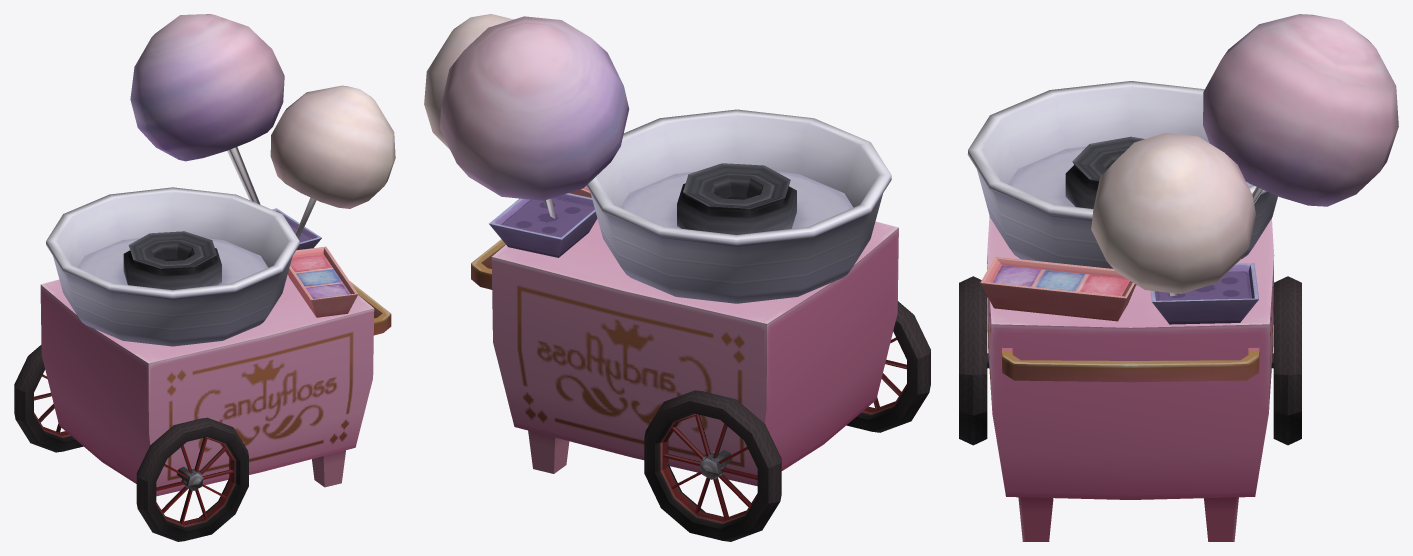
3 views of the same model, side by side, from view 1: azimuth 30°, elevation 25°; view 2: azimuth 150°, elevation 25°; view 3: azimuth 270°, elevation 25° (orthographic). The views are drawn at different scales.
Visible parts, largest first — view 1: wq_jz006_03; view 2: wq_jz006_03; view 3: wq_jz006_03.
Boxes of the visible parts, x1,y1,x2,y2 form: wq_jz006_03: (14, 14, 395, 541); wq_jz006_03: (424, 14, 930, 541); wq_jz006_03: (959, 14, 1398, 541).
Size of the model in its own units: 122 by 134 by 106.
1 material, 1 textured.
